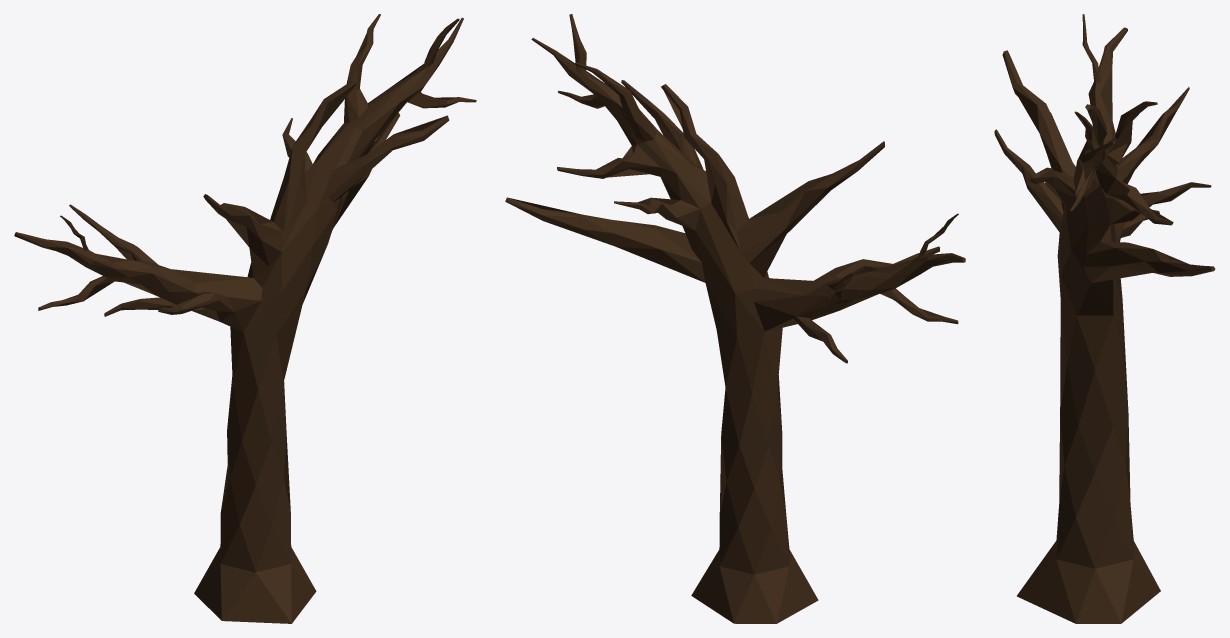
The model's file is dead-tree-1.fbx.
The picture shows the model from 3 angles, left to right: view 1: azimuth 30°, elevation 25°; view 2: azimuth 150°, elevation 25°; view 3: azimuth 270°, elevation 25°; orthographic projection. The views are drawn at different scales.
Parts seen in each view (by area): view 1: Cylinder; view 2: Cylinder; view 3: Cylinder.
Part boxes in pixels (x1,y1,x2,y2): Cylinder: [14, 14, 476, 623]; Cylinder: [505, 14, 965, 623]; Cylinder: [994, 14, 1215, 623].
Size of the model in its own units: 1238 by 1433 by 489.
